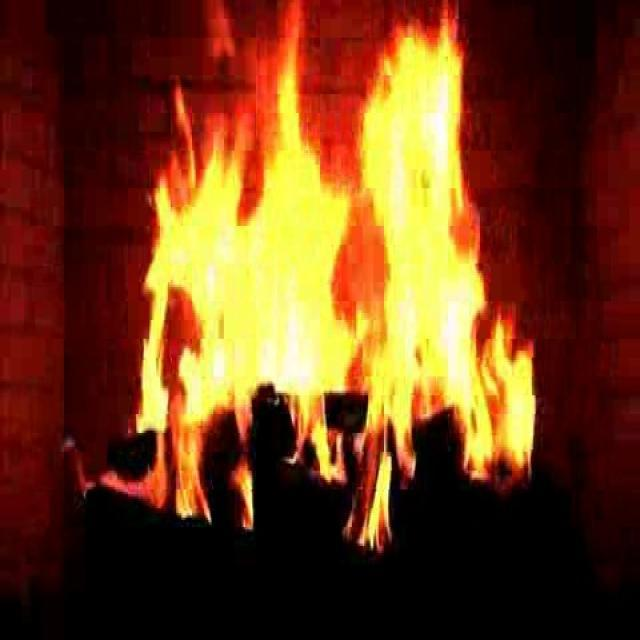Fire: (90, 0, 599, 544)
